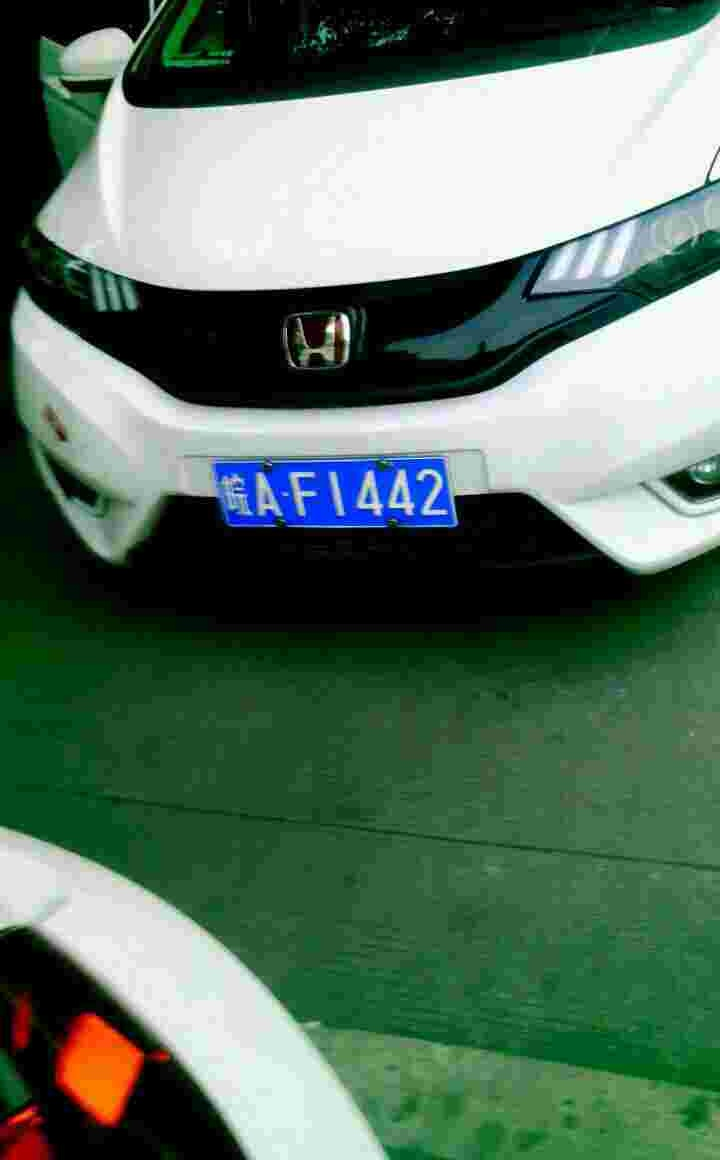plate: (208, 455, 464, 532)
